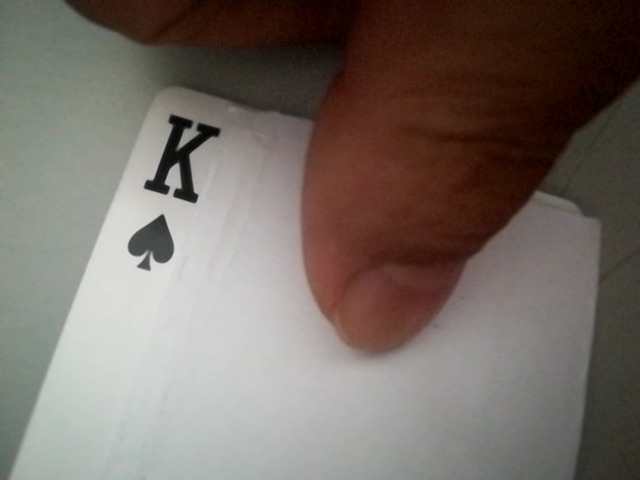ht k: (117, 104, 232, 280)
